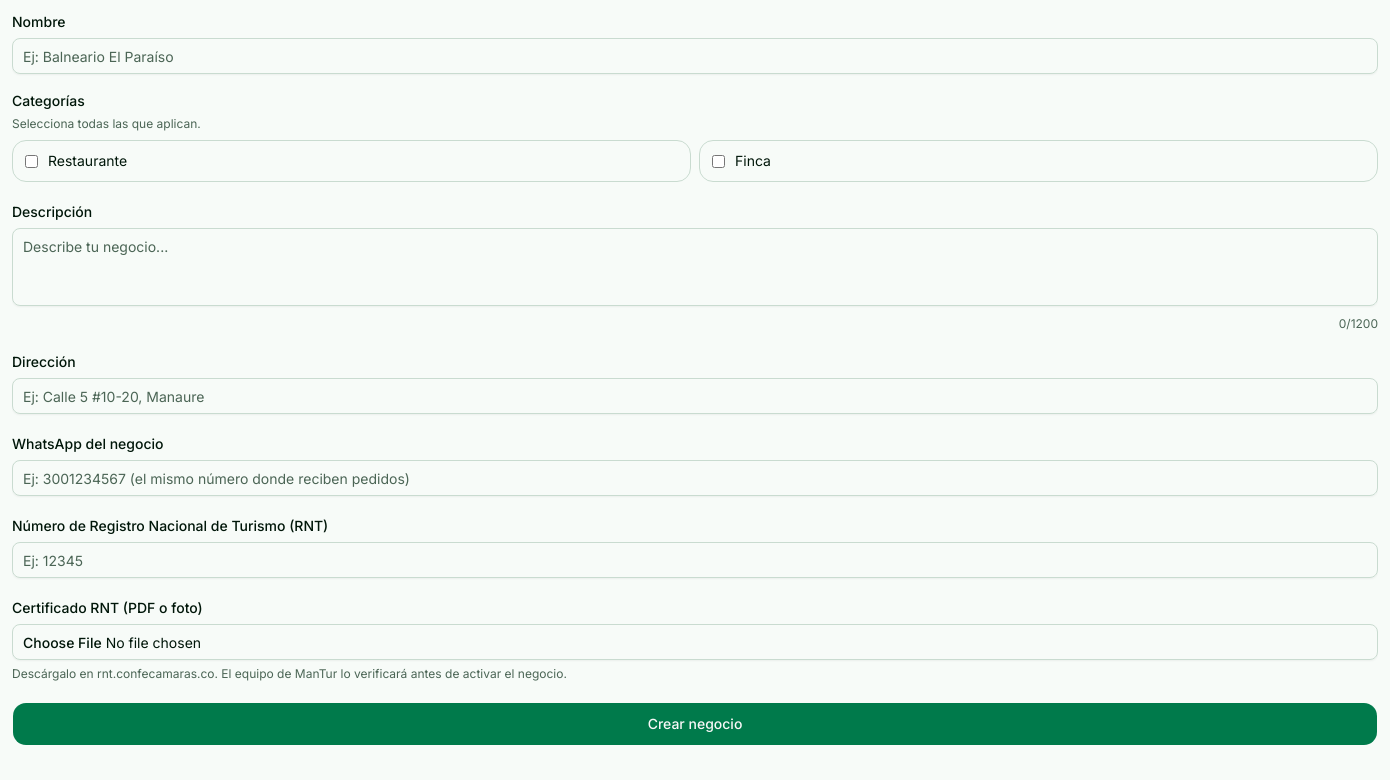
Test: CreateBusinessForm — informational category › shows the informational notice and hides RNT fields when only an informational category is checked
Click the checkbox labelled "Restaurante" at (32, 161), box [25,154,38,168]
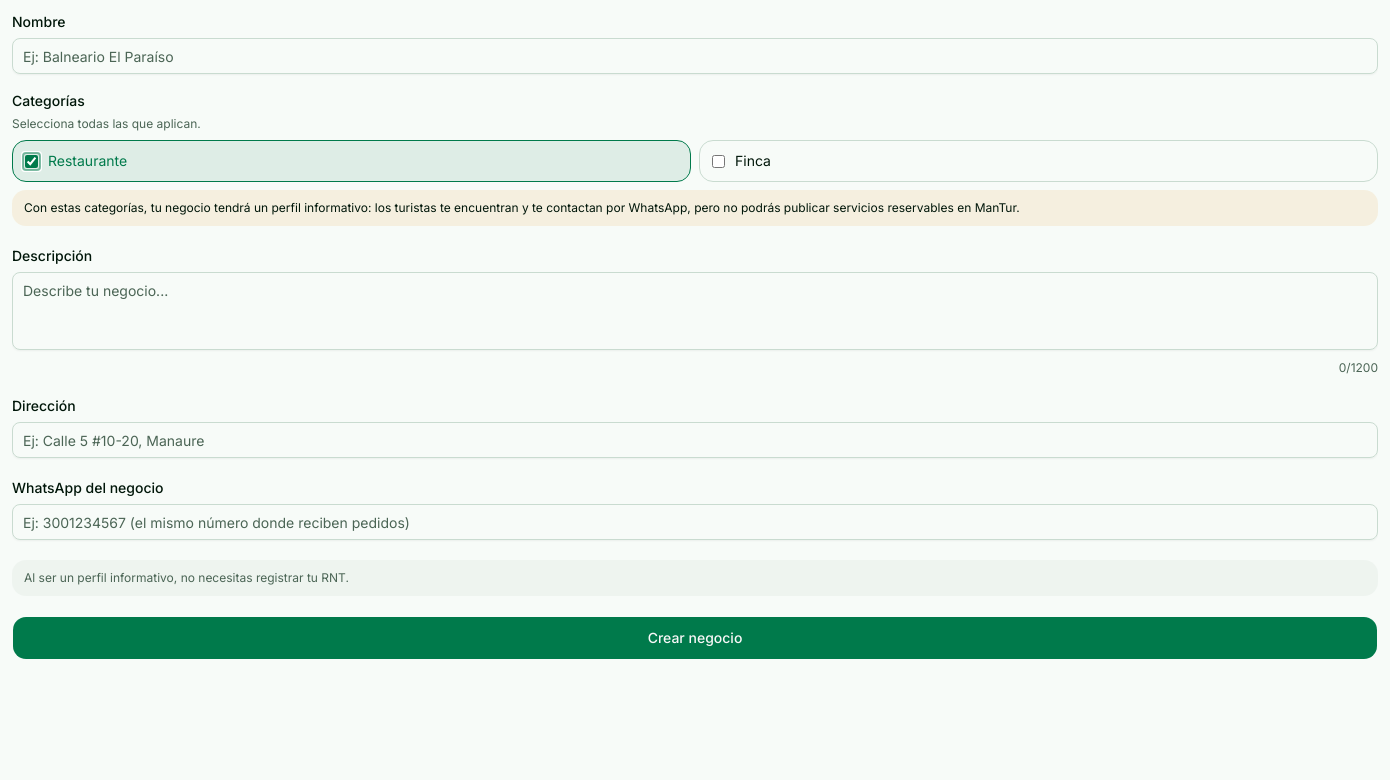
Expected: the text "tendrá un perfil informativo" is shown, [24,200,1020,215]
Expected: the label labelled "Número de Registro Nacional de Turismo" is gone
Expected: the label labelled "Certificado RNT" is gone
